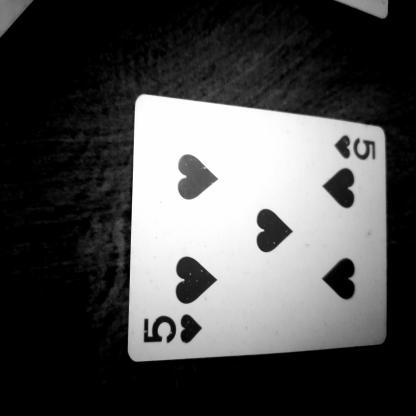5H: (130, 310, 215, 350), (323, 127, 394, 174)
